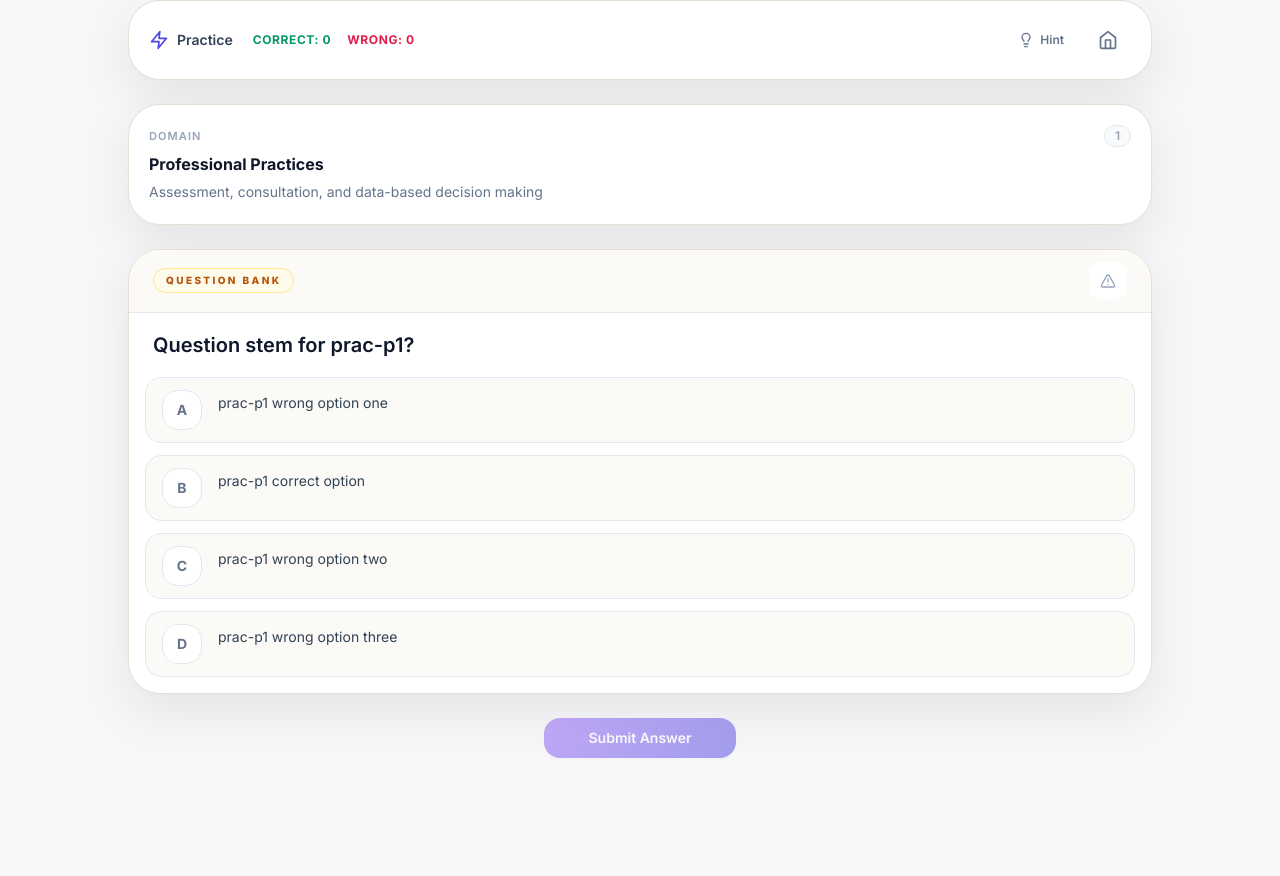
Scenario: PracticeSession — answering › shows the streak banner after two consecutive correct answers
Click the text "prac-p1 correct option" at [292, 480], box [218, 472, 365, 489]
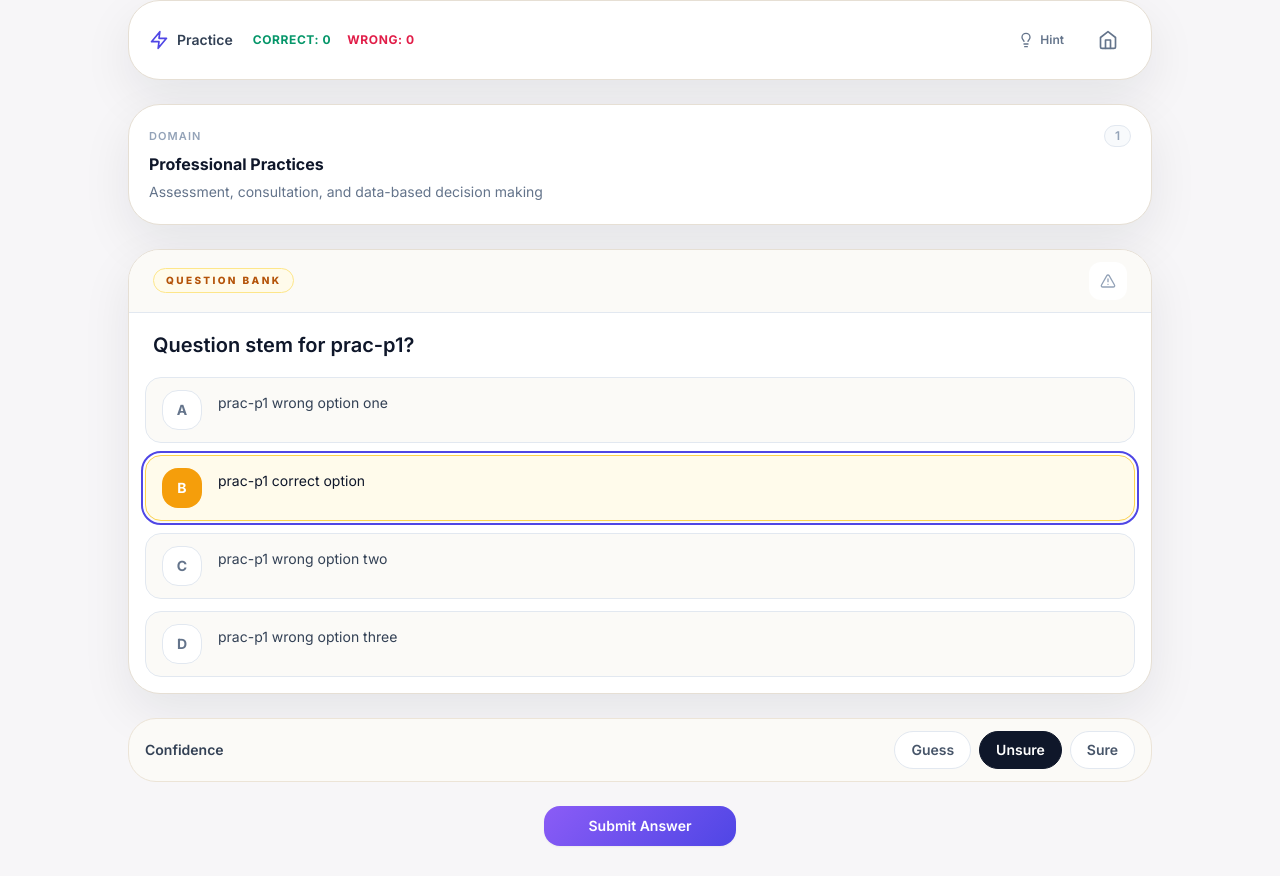
Click the button "Submit Answer" at [640, 826], box [544, 806, 736, 846]
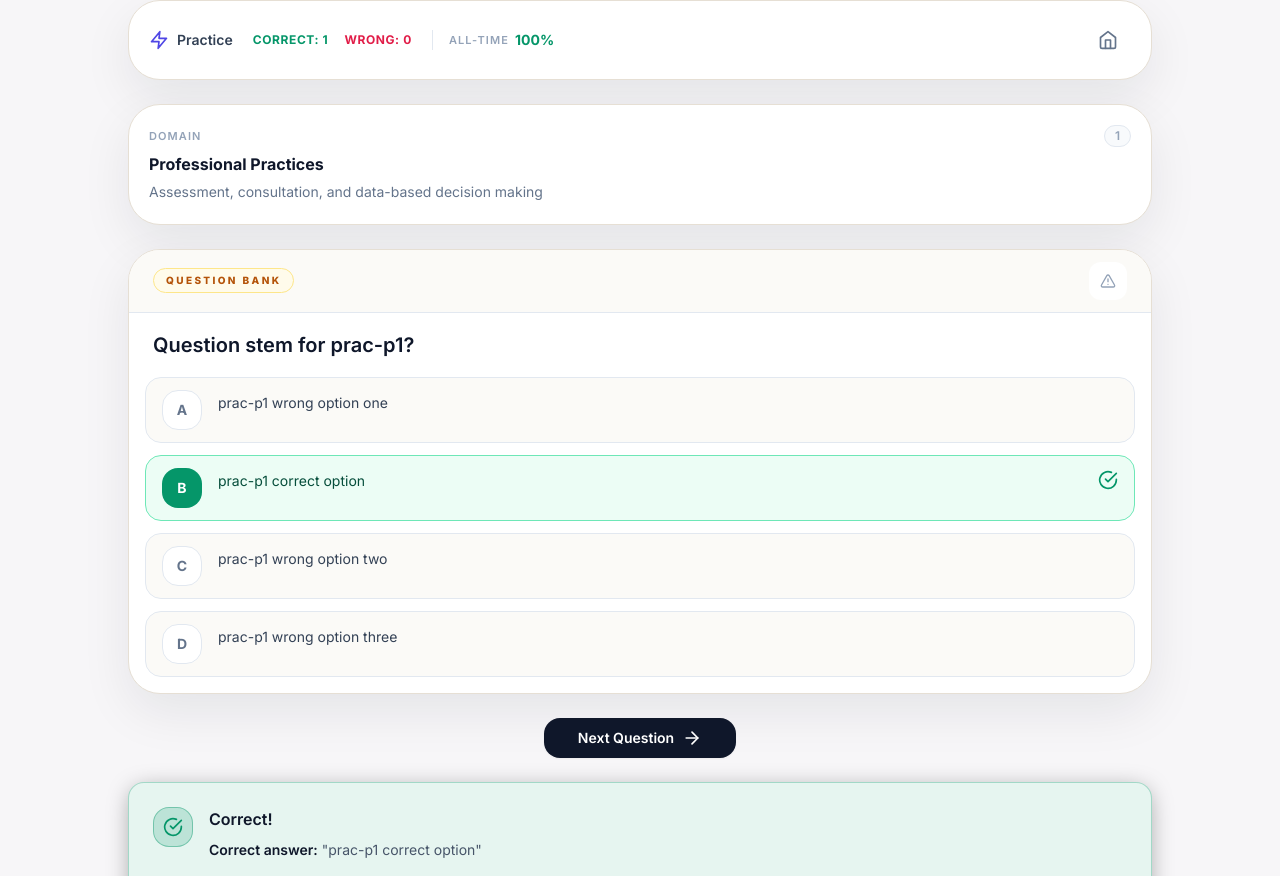
Click the button "Next Question" at [640, 738], box [544, 718, 736, 758]
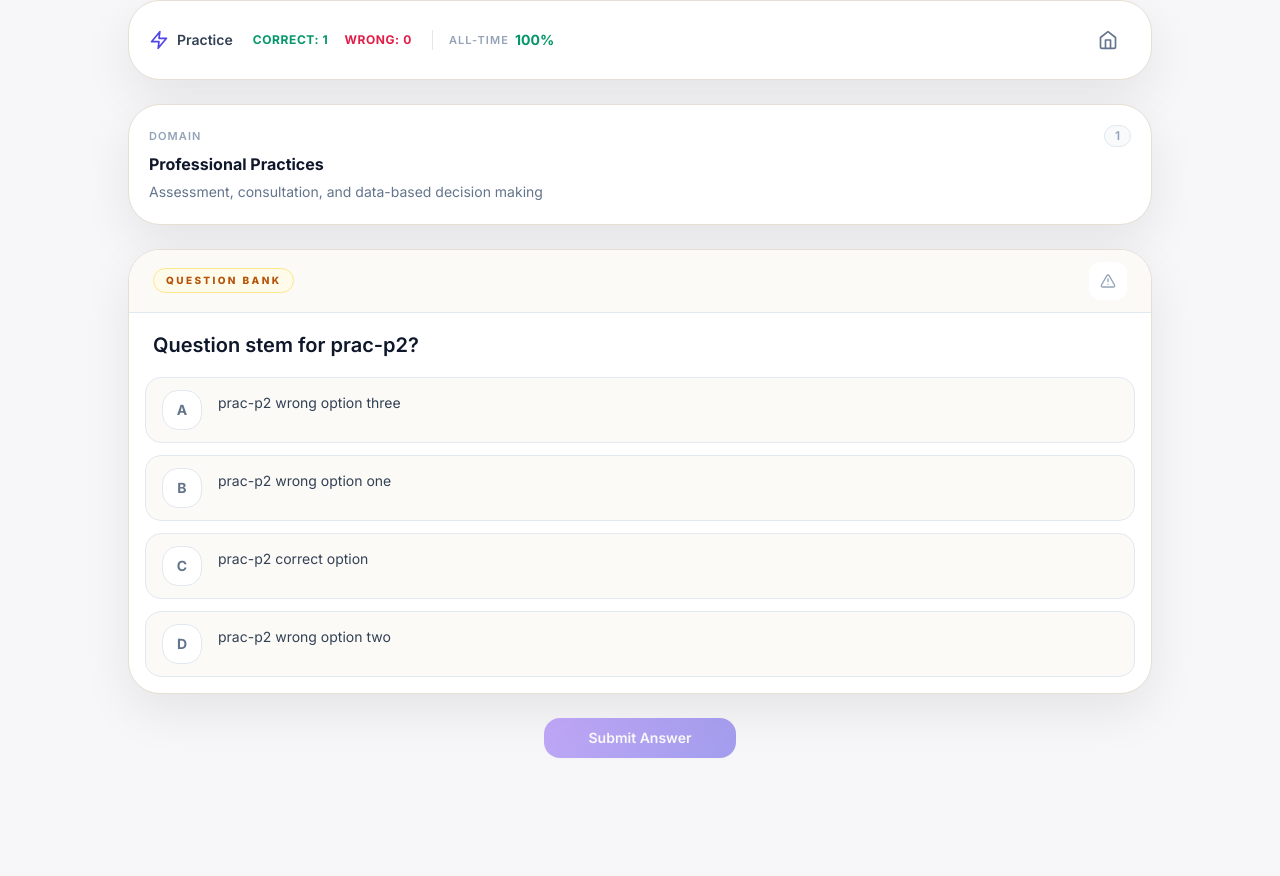
Click the text "prac-p2 correct option" at [293, 558], box [218, 550, 368, 567]
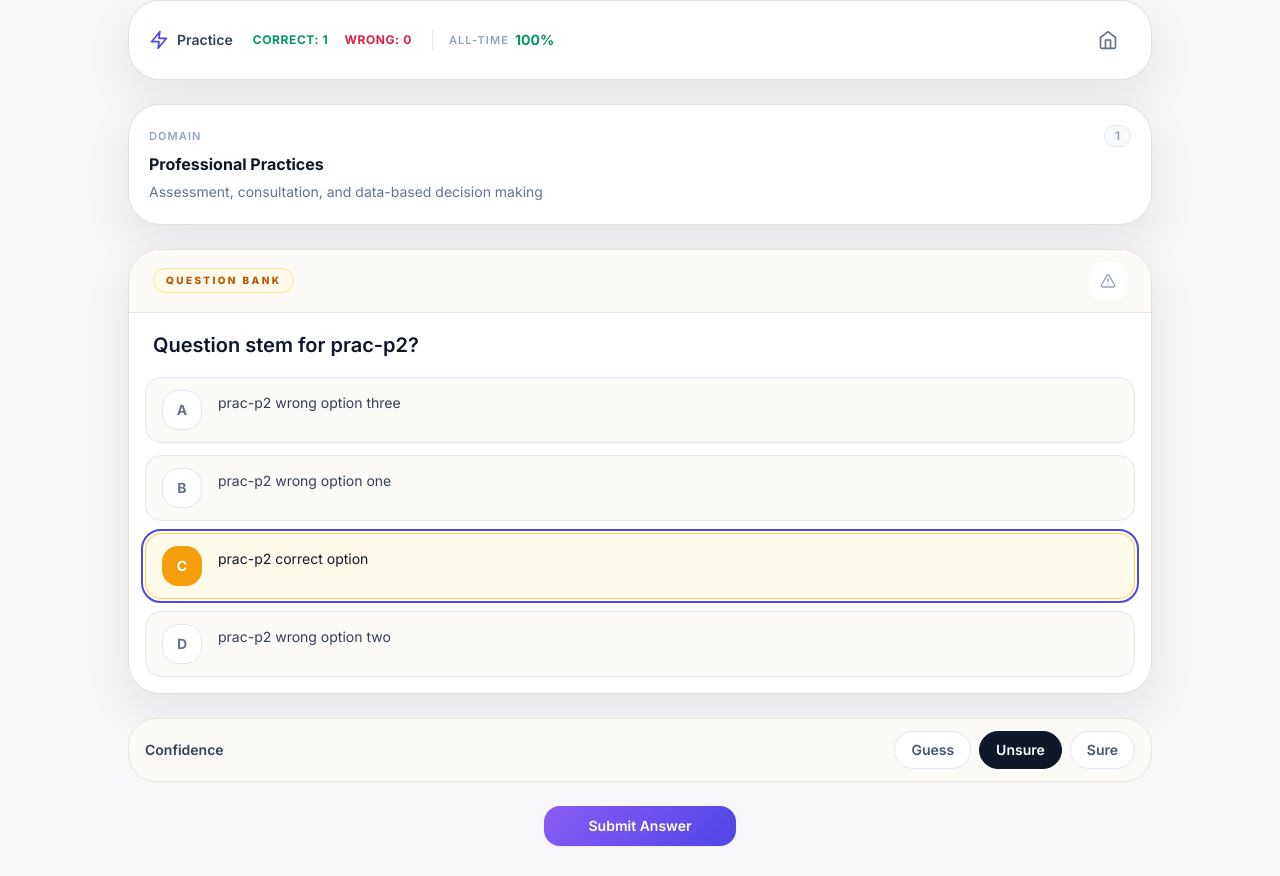
Click the button "Submit Answer" at [640, 826], box [544, 806, 736, 846]
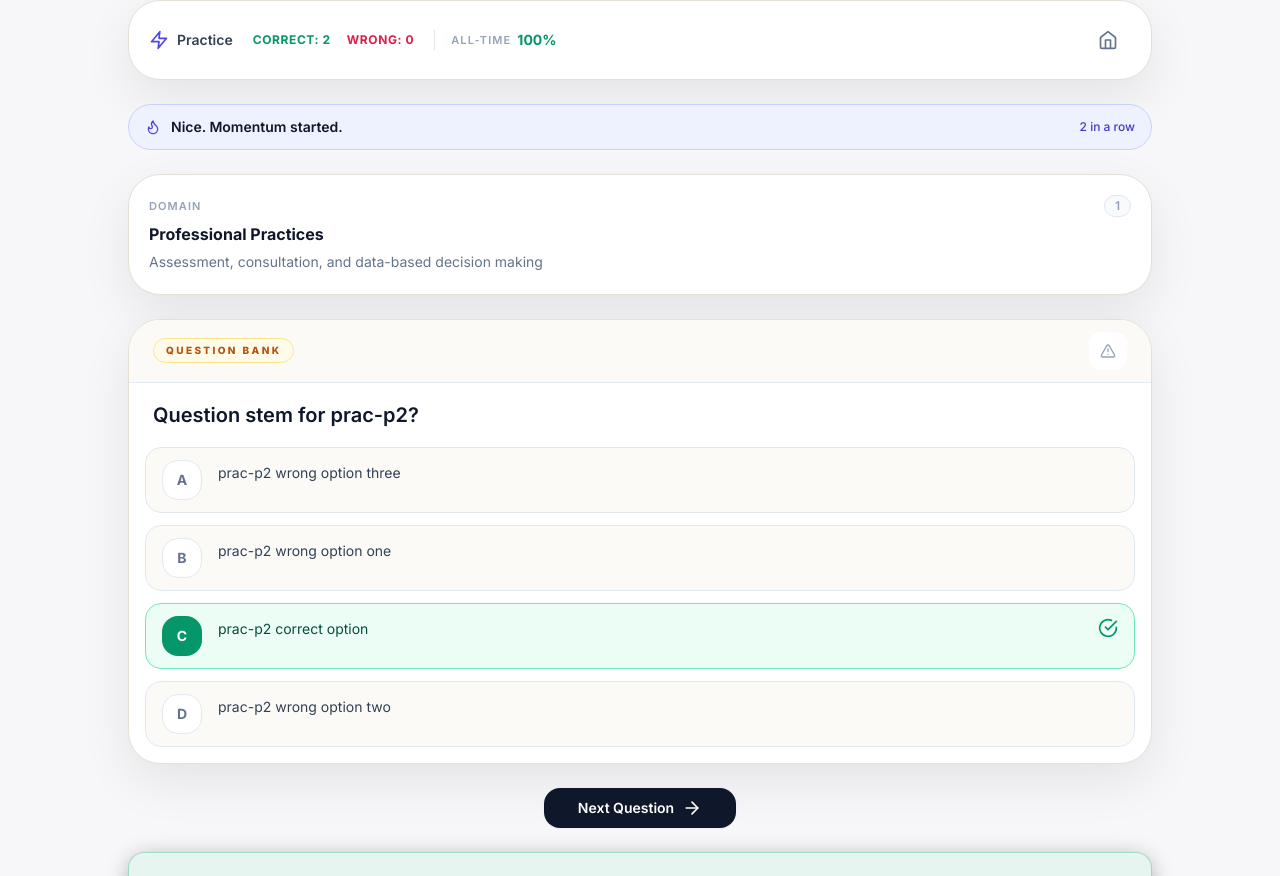
Check: the text "2 in a row" is shown, box [1080, 119, 1135, 135]
